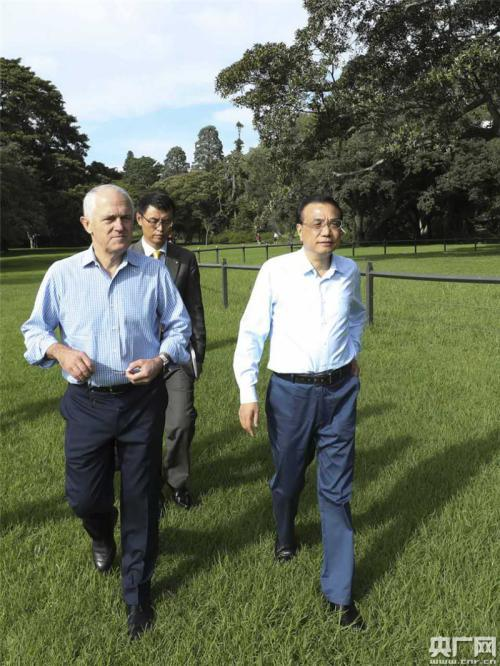up: (16, 181, 197, 643), (228, 192, 378, 635), (127, 185, 217, 514)
